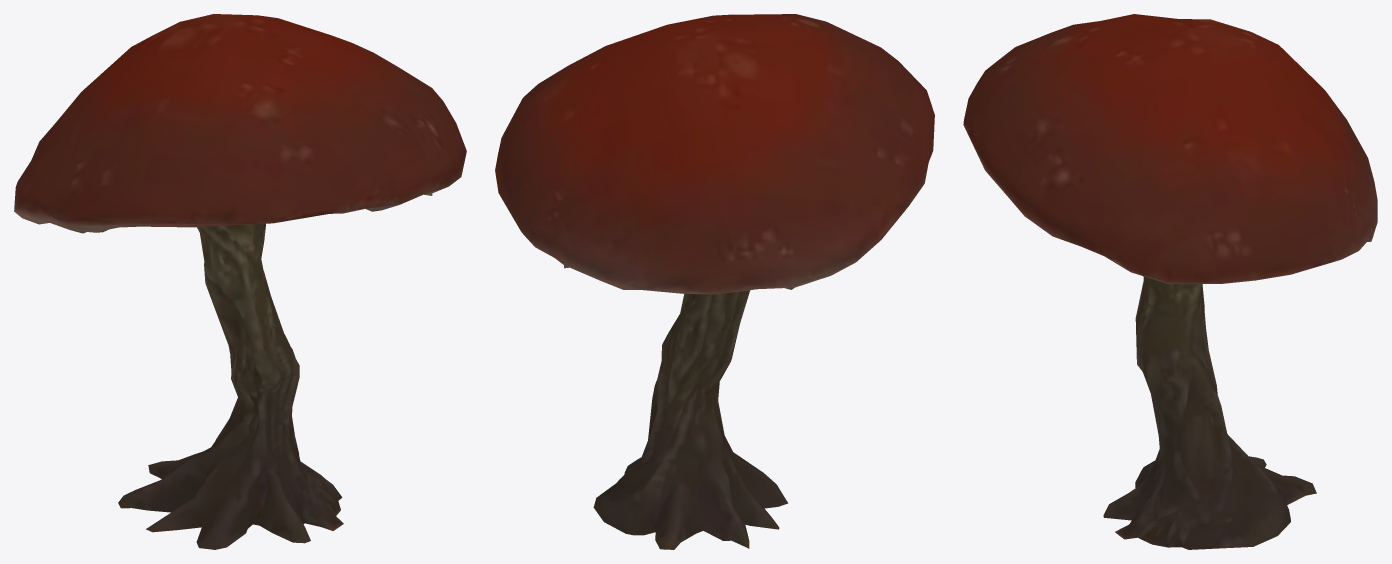
Rendered from PRP_GiantMushroom_lod.glb.
The picture shows the model from 3 angles, left to right: view 1: azimuth 30°, elevation 25°; view 2: azimuth 150°, elevation 25°; view 3: azimuth 270°, elevation 25°; orthographic projection. The views are drawn at different scales.
Parts seen in each view (by area): view 1: Plane.002_Mushroom_Tree_0; view 2: Plane.002_Mushroom_Tree_0; view 3: Plane.002_Mushroom_Tree_0.
Part boxes in pixels (x1,y1,x2,y2): Plane.002_Mushroom_Tree_0: (14,14,466,549); Plane.002_Mushroom_Tree_0: (495,14,934,549); Plane.002_Mushroom_Tree_0: (963,14,1377,549).
Size of the model in its own units: 3.71 by 4.29 by 3.4.
Materials: 1 (1 with a texture image).
